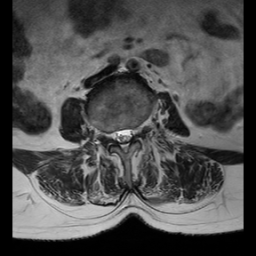CCS_normal: (120, 121, 127, 157)
LFS_normal: (134, 118, 140, 142)
LLS_normal: (127, 121, 134, 144)
RFS_stenosis: (106, 123, 113, 145)
RLS_normal: (113, 122, 120, 145)
